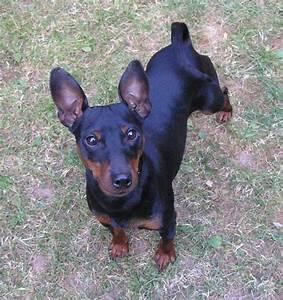dog: (48, 21, 232, 272)
